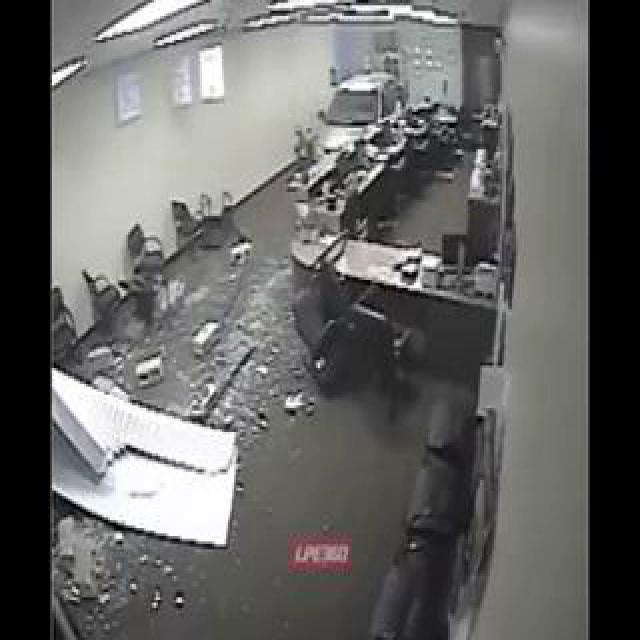burglary: (43, 87, 409, 478)
